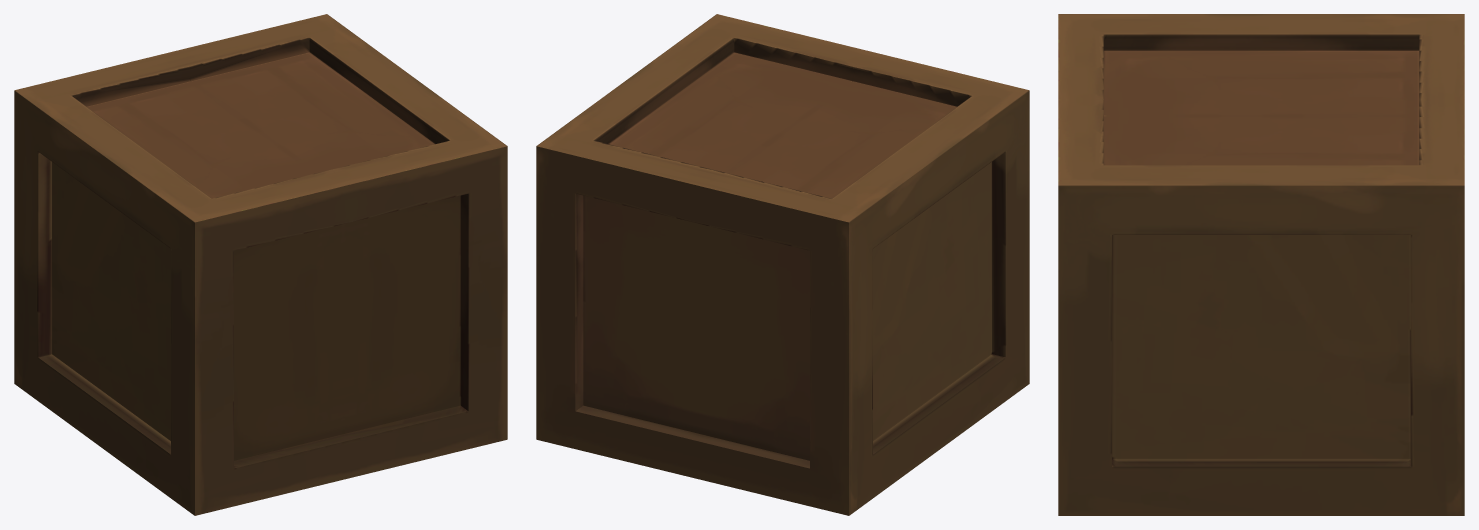
The model's file is muxiang.FBX.
3 views of the same model, side by side, from view 1: azimuth 30°, elevation 25°; view 2: azimuth 150°, elevation 25°; view 3: azimuth 270°, elevation 25° (orthographic). The views are drawn at different scales.
Visible parts, largest first — view 1: OBJ_BOX_01; view 2: OBJ_BOX_01; view 3: OBJ_BOX_01.
Part boxes in pixels (x1,y1,x2,y2): OBJ_BOX_01: [14, 14, 507, 515]; OBJ_BOX_01: [536, 14, 1029, 515]; OBJ_BOX_01: [1058, 14, 1464, 515].
Size of the model in its own units: 78.29 by 70.17 by 78.29.
Materials: 1 (1 with a texture image).
